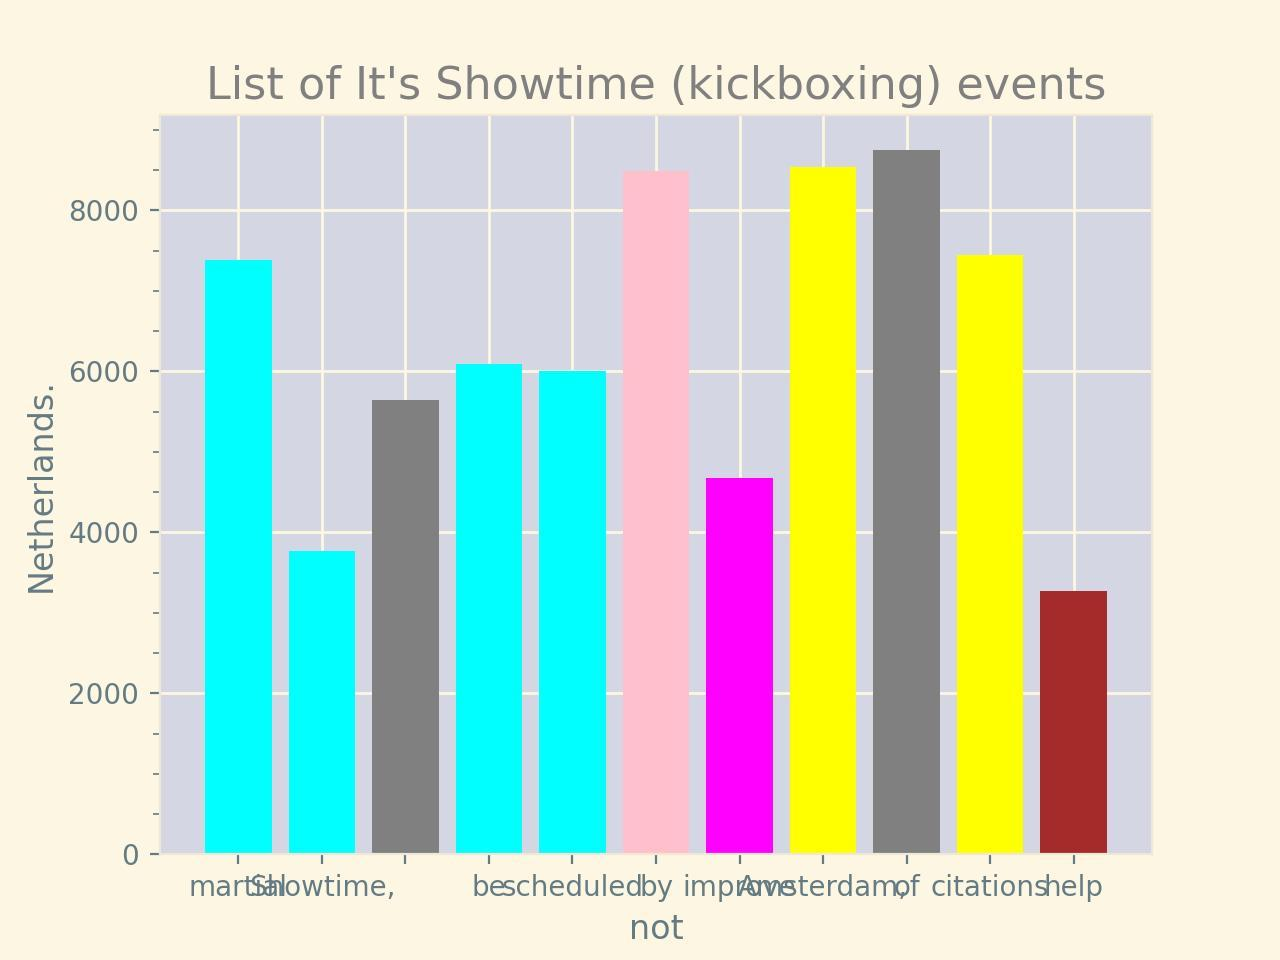axis: (24, 200, 139, 871)
rectangle: (873, 150, 940, 854), (789, 166, 857, 854), (623, 171, 689, 854), (956, 254, 1024, 854), (205, 260, 272, 854), (456, 363, 522, 854), (539, 370, 606, 854), (372, 399, 439, 854), (706, 478, 773, 854), (288, 551, 356, 854), (1040, 592, 1107, 854)
